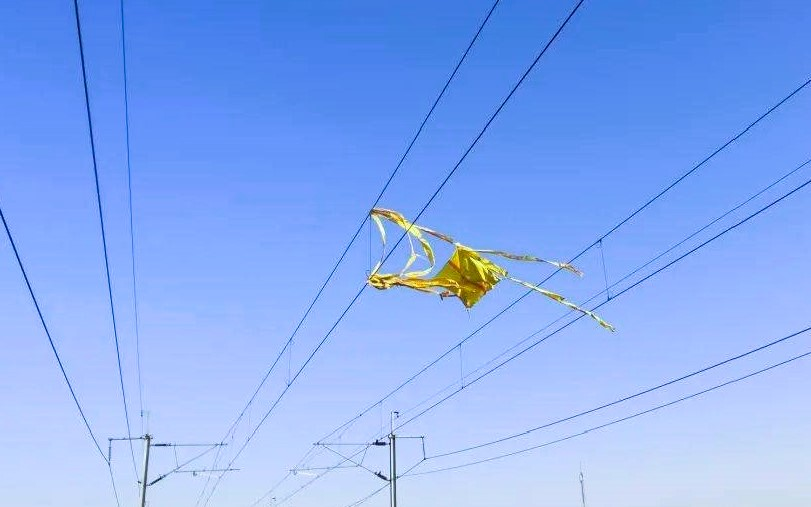wire foreign body: (364, 202, 515, 319)
